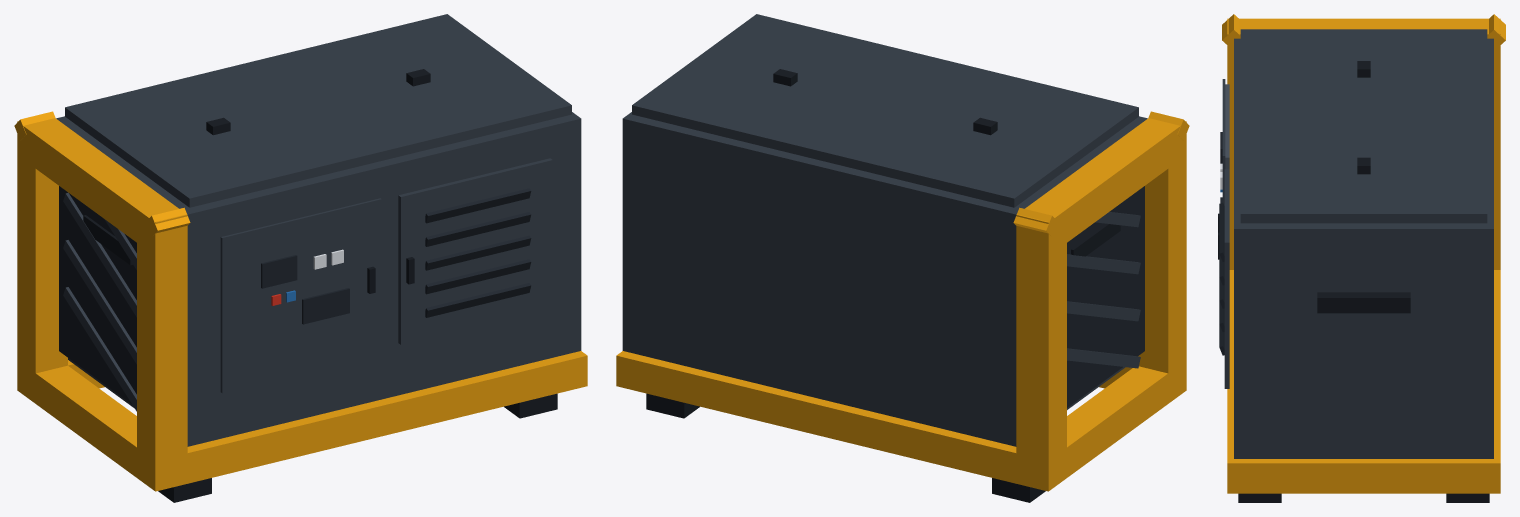
File: generator.fbx
The picture shows the model from 3 angles, left to right: view 1: azimuth 30°, elevation 25°; view 2: azimuth 150°, elevation 25°; view 3: azimuth 270°, elevation 25°; orthographic projection.
Parts seen in each view (by area): view 1: Sacks_Pallet_Generator.001; view 2: Sacks_Pallet_Generator.001; view 3: Sacks_Pallet_Generator.001.
Part boxes in pixels (box(x1,y1,x2,y2)): Sacks_Pallet_Generator.001: box(14, 14, 587, 502); Sacks_Pallet_Generator.001: box(616, 14, 1189, 502); Sacks_Pallet_Generator.001: box(1218, 14, 1505, 502).
Bounding box in the file's own units: 152 × 101 × 86.29.
